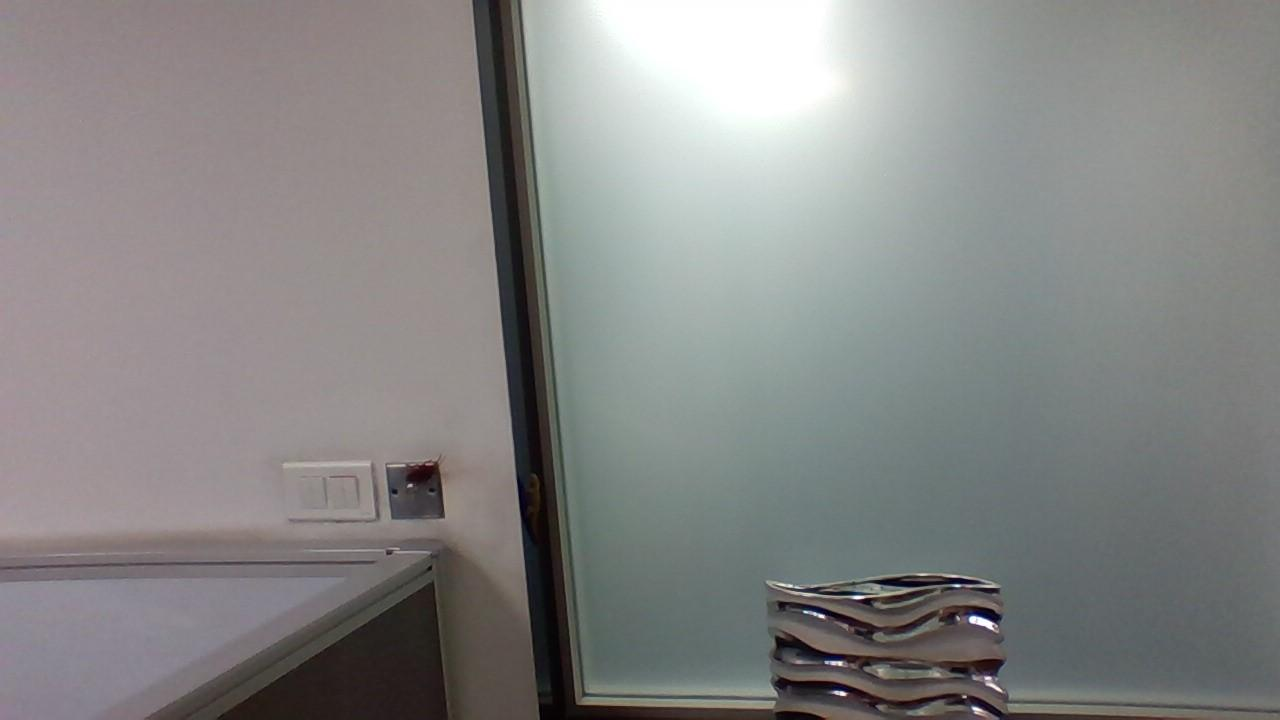cockroach: (399, 447, 450, 506)
lizard: (520, 463, 552, 546)
